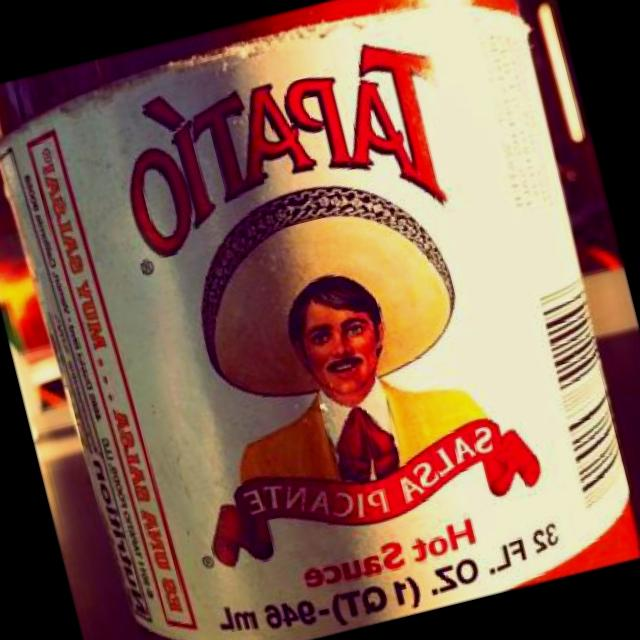Person: (197, 243, 502, 518)
